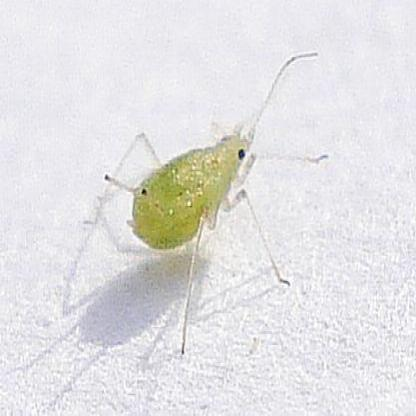aphid: (89, 40, 302, 359)
